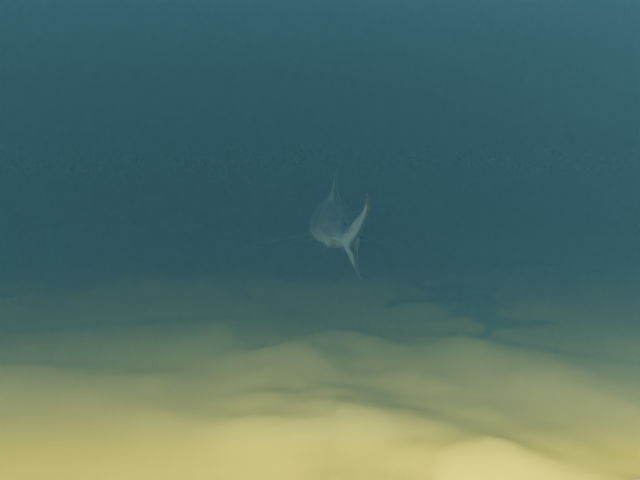Carribean Shark.001: (255, 168, 414, 279)
